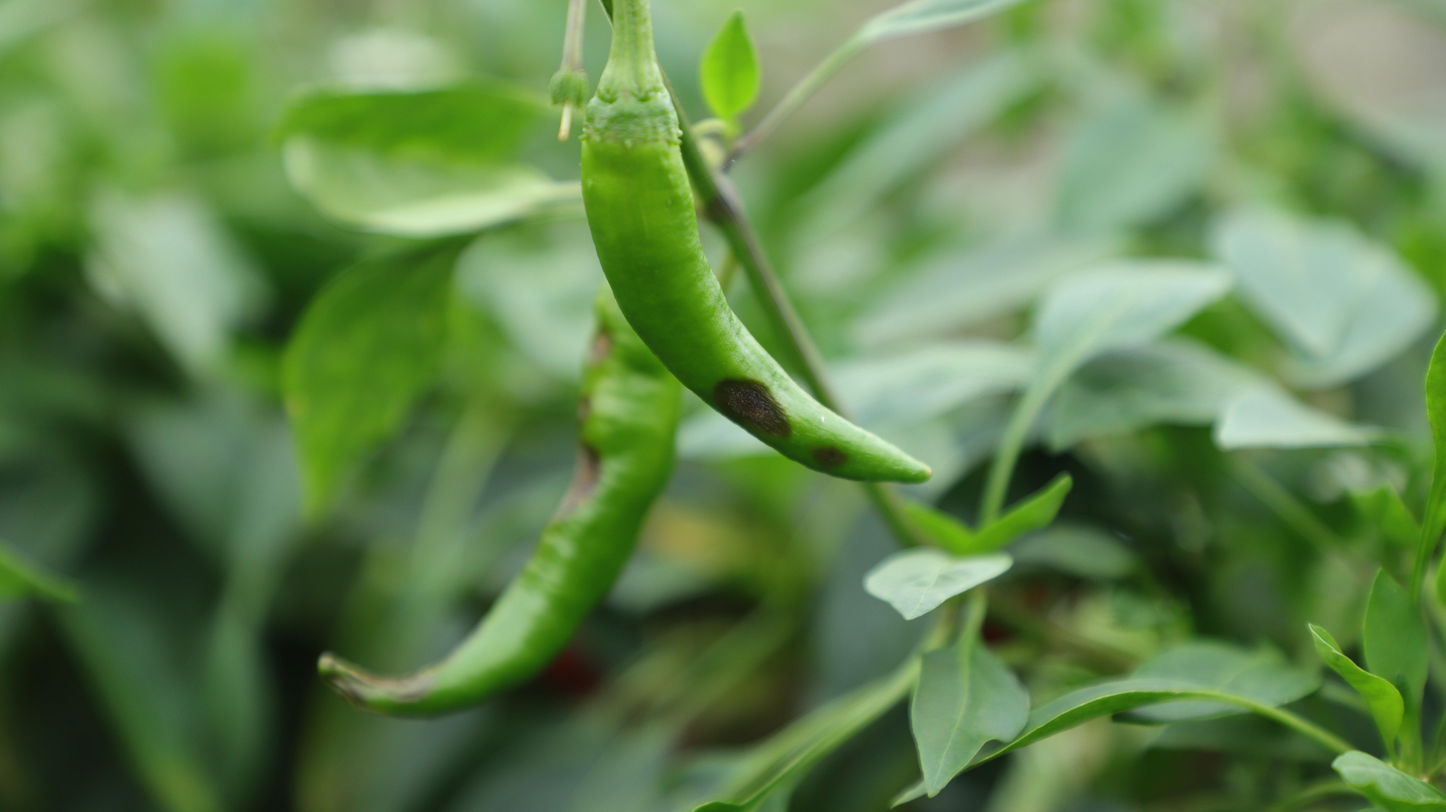Busuk Buah Antraknosa: (573, 64, 935, 488)
